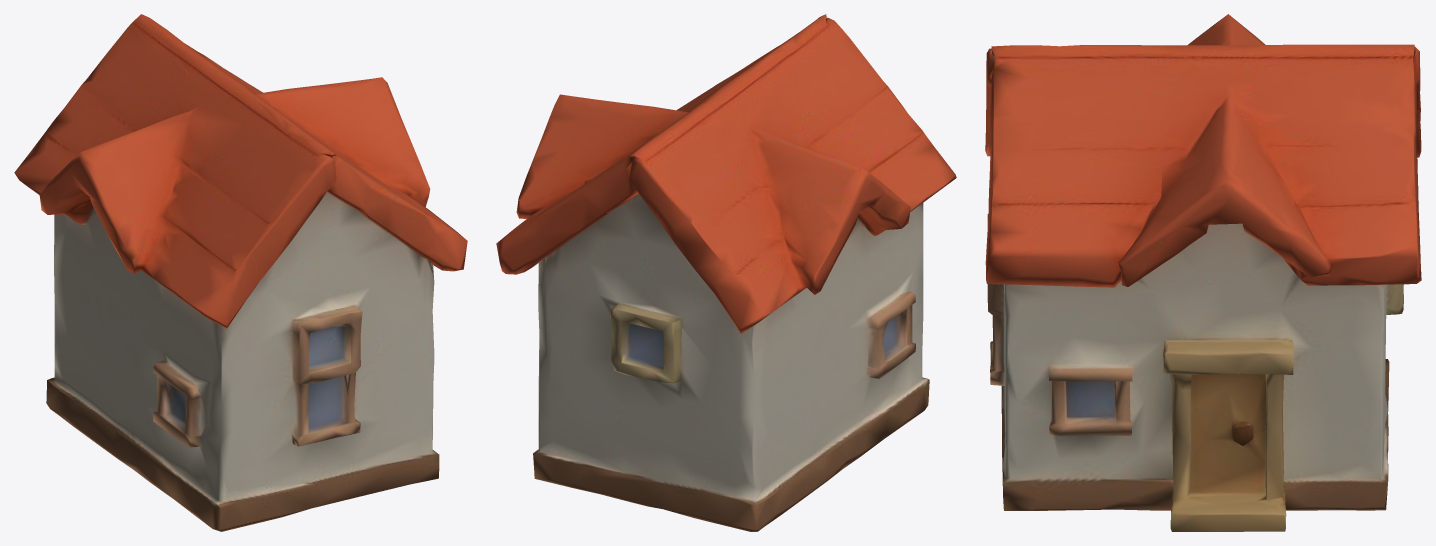
Rendered from house.glb.
3 renders of one model, left to right at view 1: azimuth 30°, elevation 25°; view 2: azimuth 150°, elevation 25°; view 3: azimuth 270°, elevation 25°, orthographic. The views are drawn at different scales.
Parts seen in each view (by area): view 1: tripo_node_502d3d37-6c47-428b-81e8-8f70ca757d5b; view 2: tripo_node_502d3d37-6c47-428b-81e8-8f70ca757d5b; view 3: tripo_node_502d3d37-6c47-428b-81e8-8f70ca757d5b.
Boxes of the visible parts, x1=… form: tripo_node_502d3d37-6c47-428b-81e8-8f70ca757d5b: x1=14, y1=14, x2=467, y2=531; tripo_node_502d3d37-6c47-428b-81e8-8f70ca757d5b: x1=496, y1=14, x2=956, y2=531; tripo_node_502d3d37-6c47-428b-81e8-8f70ca757d5b: x1=985, y1=14, x2=1421, y2=531.
Size of the model in its own units: 0.8945 by 1 by 0.978.
1 material, 1 textured.
